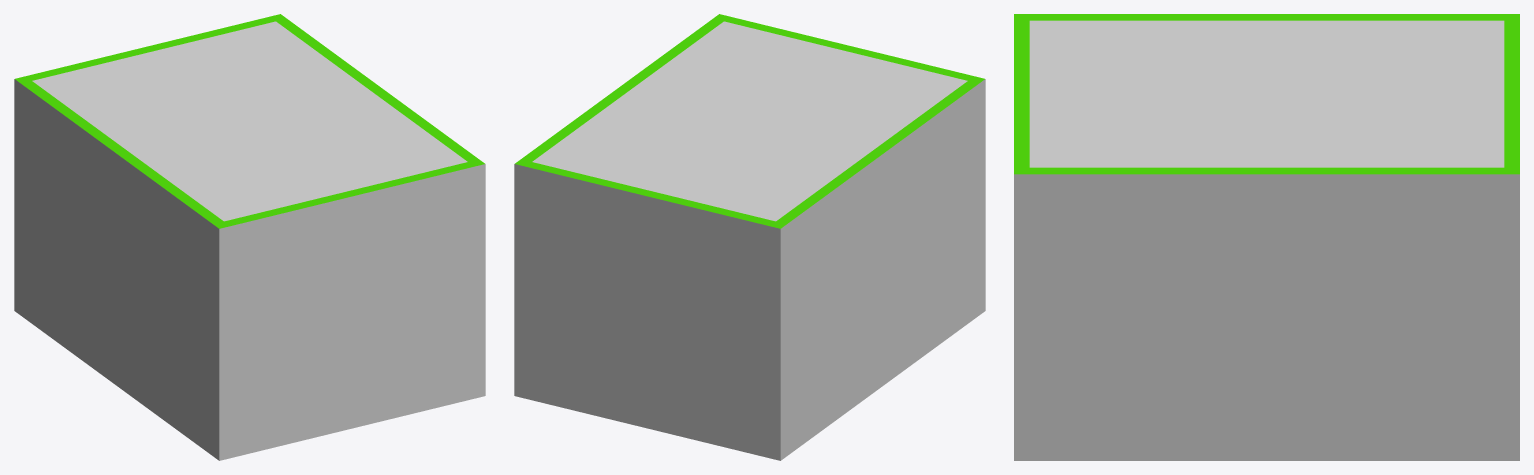
Rendered from Checkpoint.dae.
3 renders of one model, left to right at view 1: azimuth 30°, elevation 25°; view 2: azimuth 150°, elevation 25°; view 3: azimuth 270°, elevation 25°, orthographic. The views are drawn at different scales.
Parts seen in each view (by area): view 1: Checkpoint; view 2: Checkpoint; view 3: Checkpoint.
Part boxes in pixels (box(x1,y1,x2,y2)): Checkpoint: box(14, 14, 485, 460); Checkpoint: box(514, 14, 985, 460); Checkpoint: box(1014, 14, 1519, 460).
Bounding box in the file's own units: 6 × 8 × 5.
